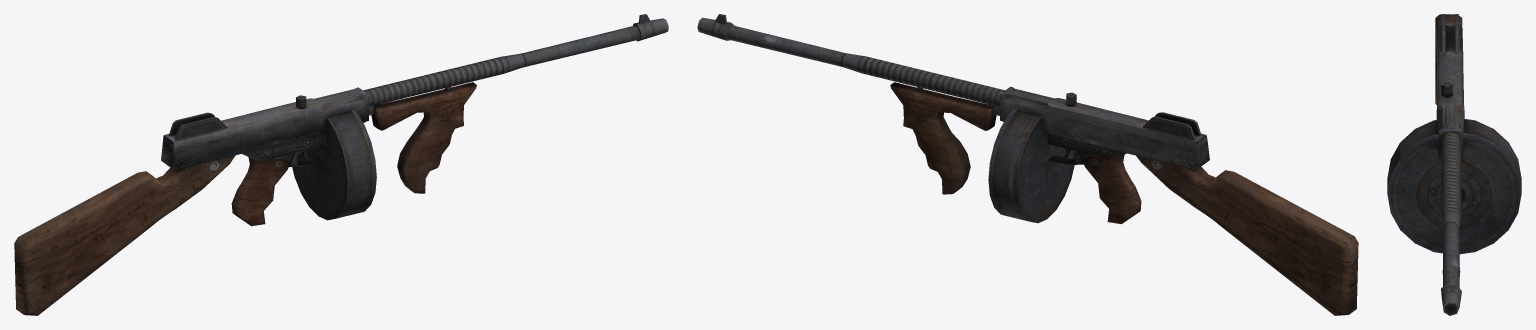
The model's file is gun.obj.
3 views of the same model, side by side, from view 1: azimuth 30°, elevation 25°; view 2: azimuth 150°, elevation 25°; view 3: azimuth 270°, elevation 25° (orthographic). The views are drawn at different scales.
Visible parts, largest first — view 1: Game_Camio_Vent_TommyGun; view 2: Game_Camio_Vent_TommyGun; view 3: Game_Camio_Vent_TommyGun.
Boxes of the visible parts, box(x1,y1,x2,y2) form: Game_Camio_Vent_TommyGun: box(14, 14, 668, 315); Game_Camio_Vent_TommyGun: box(697, 14, 1358, 315); Game_Camio_Vent_TommyGun: box(1387, 14, 1521, 315).
Bounding box in the file's own units: 119 × 27 × 18.74.
